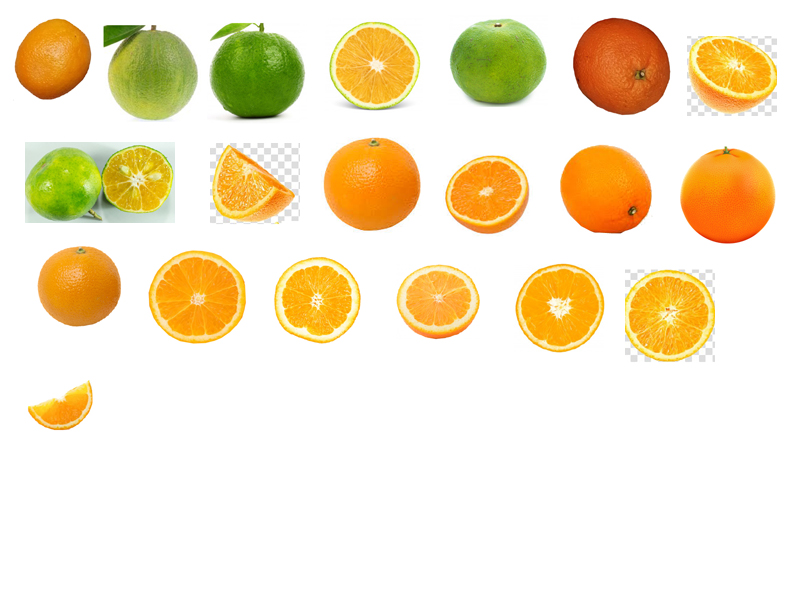orange: (678, 144, 777, 246), (324, 132, 423, 234), (572, 17, 673, 116), (208, 22, 306, 121), (147, 247, 246, 344), (447, 15, 548, 108), (509, 259, 606, 352), (107, 25, 199, 122), (268, 253, 364, 345), (557, 144, 655, 233), (625, 271, 716, 361), (32, 243, 125, 330), (330, 21, 421, 108), (9, 13, 93, 101), (444, 154, 531, 238), (688, 35, 777, 116), (210, 142, 300, 219), (395, 259, 480, 339), (25, 144, 101, 220), (102, 147, 174, 214), (24, 376, 97, 434)
